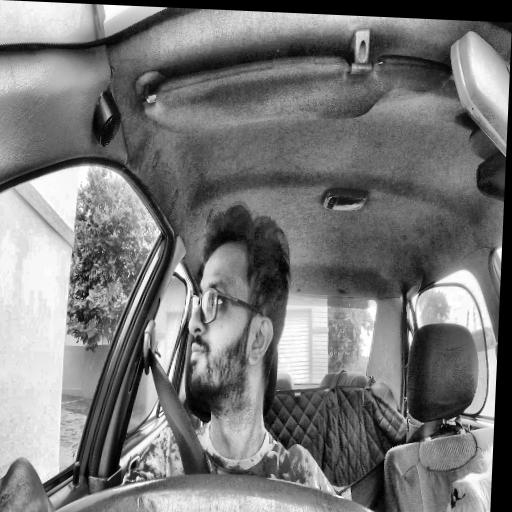awake: (183, 202, 294, 422)
